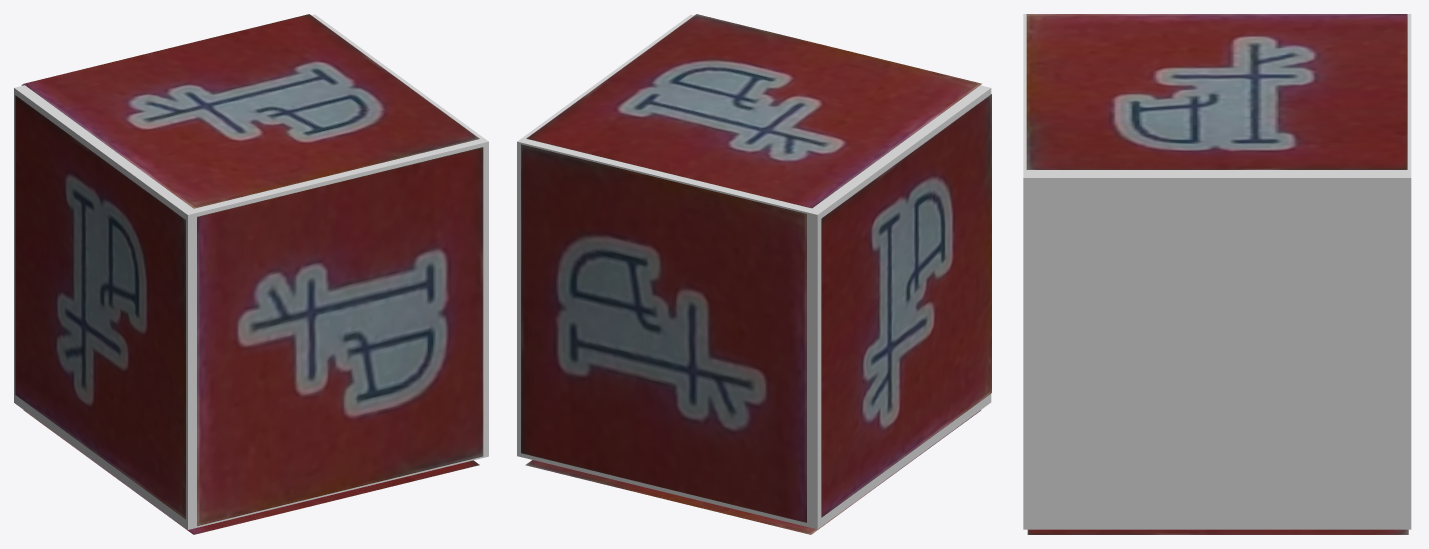
The picture shows the model from 3 angles, left to right: view 1: azimuth 30°, elevation 25°; view 2: azimuth 150°, elevation 25°; view 3: azimuth 270°, elevation 25°; orthographic projection. The views are drawn at different scales.
Visible parts, largest first — view 1: fake2.png.005, fake2.png.001, fake2.png.003, Link35, fake2.png.004; view 2: fake2.png.002, fake2.png.001, fake2.png.003, Link35, fake2.png.004; view 3: Link35, fake2.png.003, fake2.png.004.
Boxes of the visible parts, <box> form: fake2.png.005: <box>197,147,483,525</box>; fake2.png.001: <box>15,95,185,519</box>; fake2.png.003: <box>23,14,479,208</box>; Link35: <box>14,14,488,529</box>; fake2.png.004: <box>23,410,479,534</box>; fake2.png.002: <box>521,144,806,522</box>; fake2.png.001: <box>821,94,991,517</box>; fake2.png.003: <box>526,14,981,208</box>; Link35: <box>517,14,991,529</box>; fake2.png.004: <box>525,410,981,534</box>; Link35: <box>1023,14,1411,529</box>; fake2.png.003: <box>1026,14,1407,169</box>; fake2.png.004: <box>1027,529,1408,534</box>.
Bounding box in the file's own units: 0.3515 × 0.3561 × 0.3629.
Materials: 1 (1 with a texture image).
